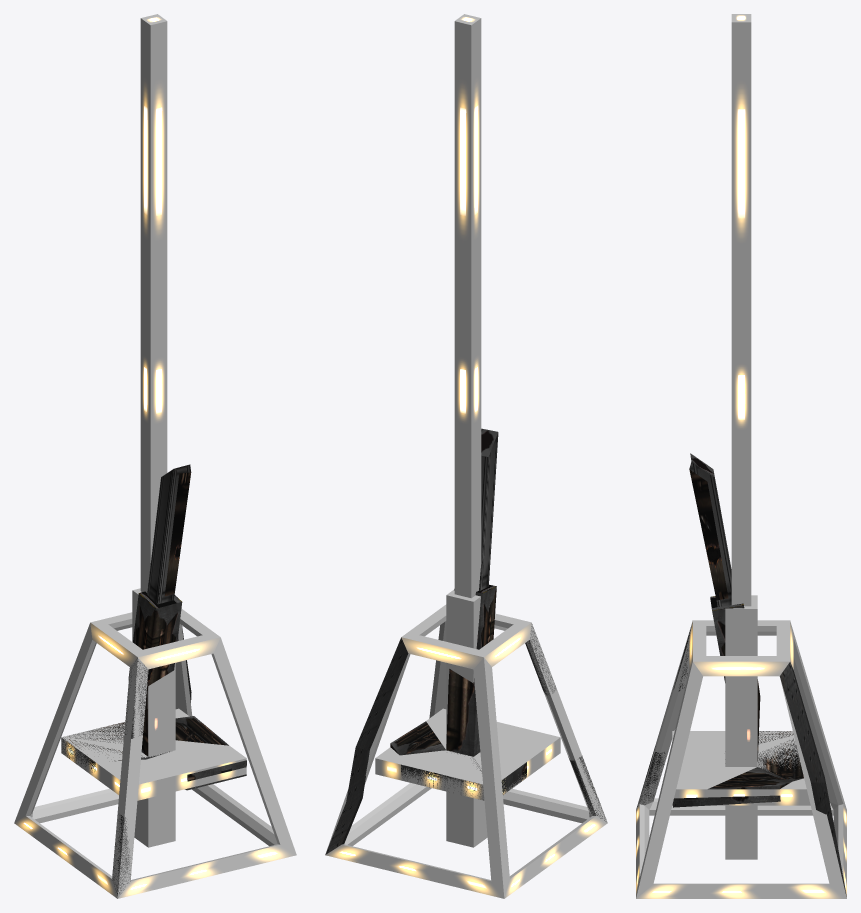
Rendered from Station_Antenna1.fbx.
The picture shows the model from 3 angles, left to right: view 1: azimuth 30°, elevation 25°; view 2: azimuth 150°, elevation 25°; view 3: azimuth 270°, elevation 25°; orthographic projection.
Parts seen in each view (by area): view 1: Station_antenna_1, Station_antenna_2; view 2: Station_antenna_1, Station_antenna_2; view 3: Station_antenna_1, Station_antenna_2.
Boxes of the visible parts, x1,y1,x2,y2 form: Station_antenna_1: (14,14,296,898); Station_antenna_2: (61,464,246,897); Station_antenna_1: (325,14,607,898); Station_antenna_2: (325,428,606,854); Station_antenna_1: (636,14,846,898); Station_antenna_2: (636,453,846,896).
Bounding box in the file's own units: 2.3 × 2.3 × 10.04.
